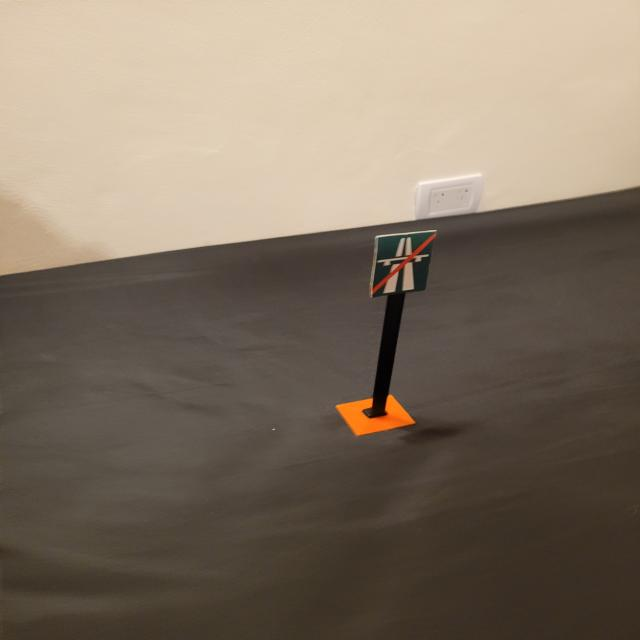highway_exit: (368, 229, 436, 302)
